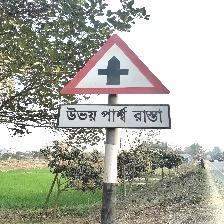Crossroad: (57, 31, 172, 131)
